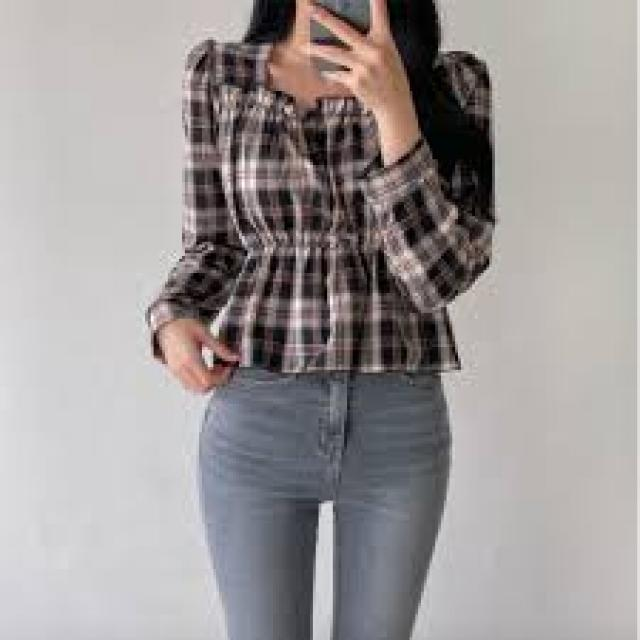plaid: (144, 26, 501, 386)
